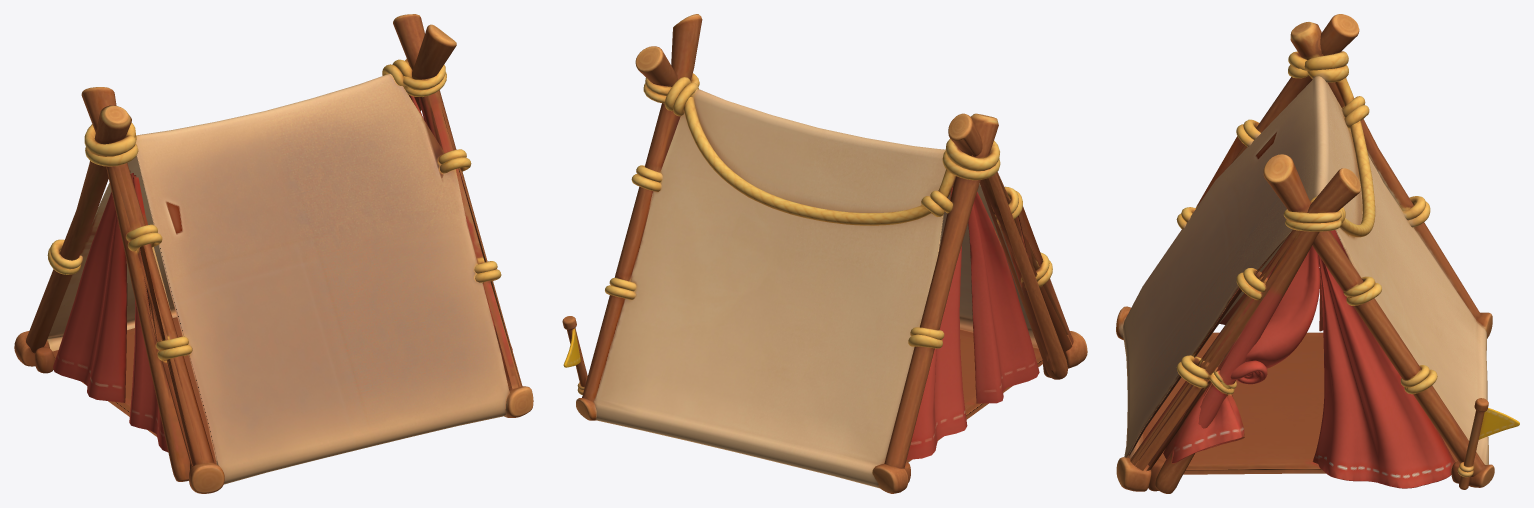
The model's file is C07_tent.fbx.
3 renders of one model, left to right at view 1: azimuth 30°, elevation 25°; view 2: azimuth 150°, elevation 25°; view 3: azimuth 270°, elevation 25°, orthographic.
Visible parts, largest first — view 1: tripo_node_df8f94dc; view 2: tripo_node_df8f94dc; view 3: tripo_node_df8f94dc.
Part boxes in pixels (x1,y1,x2,y2): tripo_node_df8f94dc: [14, 14, 533, 493]; tripo_node_df8f94dc: [562, 14, 1087, 493]; tripo_node_df8f94dc: [1116, 14, 1519, 493].
Bounding box in the file's own units: 0.9995 × 0.9165 × 0.9995.
